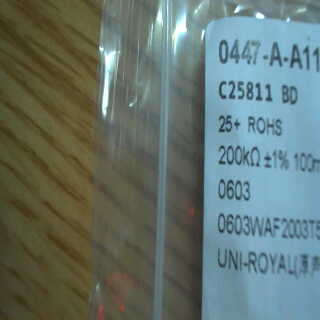200kR: (219, 141, 264, 170)
